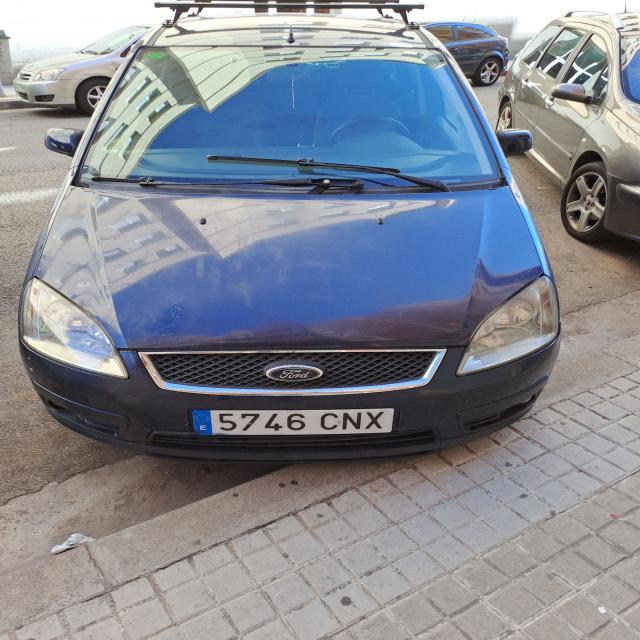license_plate-34Td: (192, 408, 394, 436)
